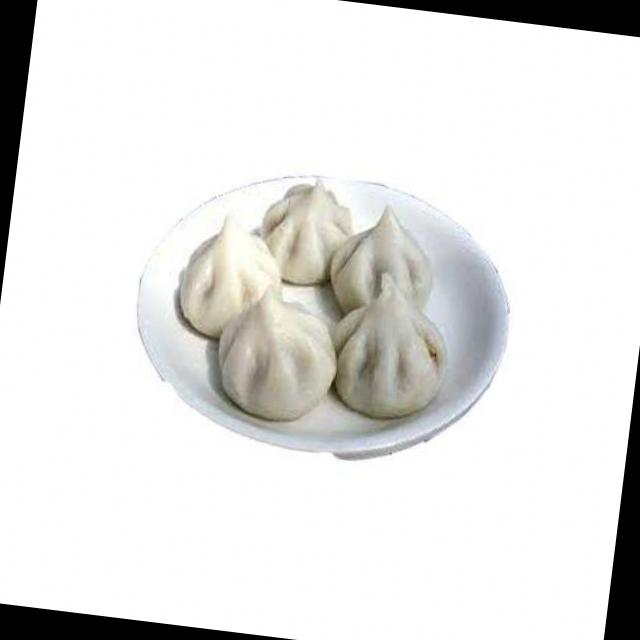modak: (147, 148, 491, 465)
